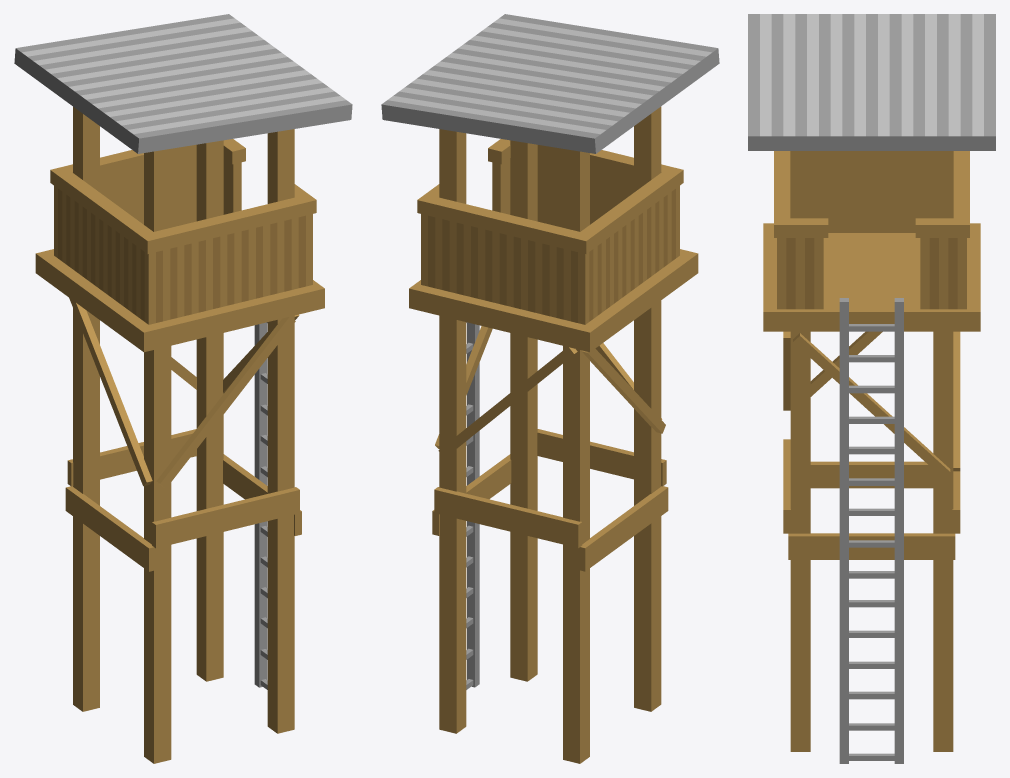
The model's file is GuardTower.fbx.
The picture shows the model from 3 angles, left to right: view 1: azimuth 30°, elevation 25°; view 2: azimuth 150°, elevation 25°; view 3: azimuth 270°, elevation 25°; orthographic projection.
Visible parts, largest first — view 1: tower; view 2: tower; view 3: tower.
Part boxes in pixels (bbox=[...]): tower: bbox=[14, 14, 352, 763]; tower: bbox=[381, 14, 719, 763]; tower: bbox=[748, 14, 995, 763].
Size of the model in its own units: 340 by 983 by 339.
Materials: 1 (1 with a texture image).
